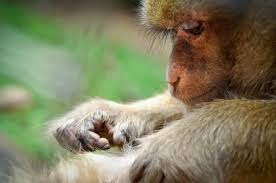monkey: (111, 0, 266, 180)
